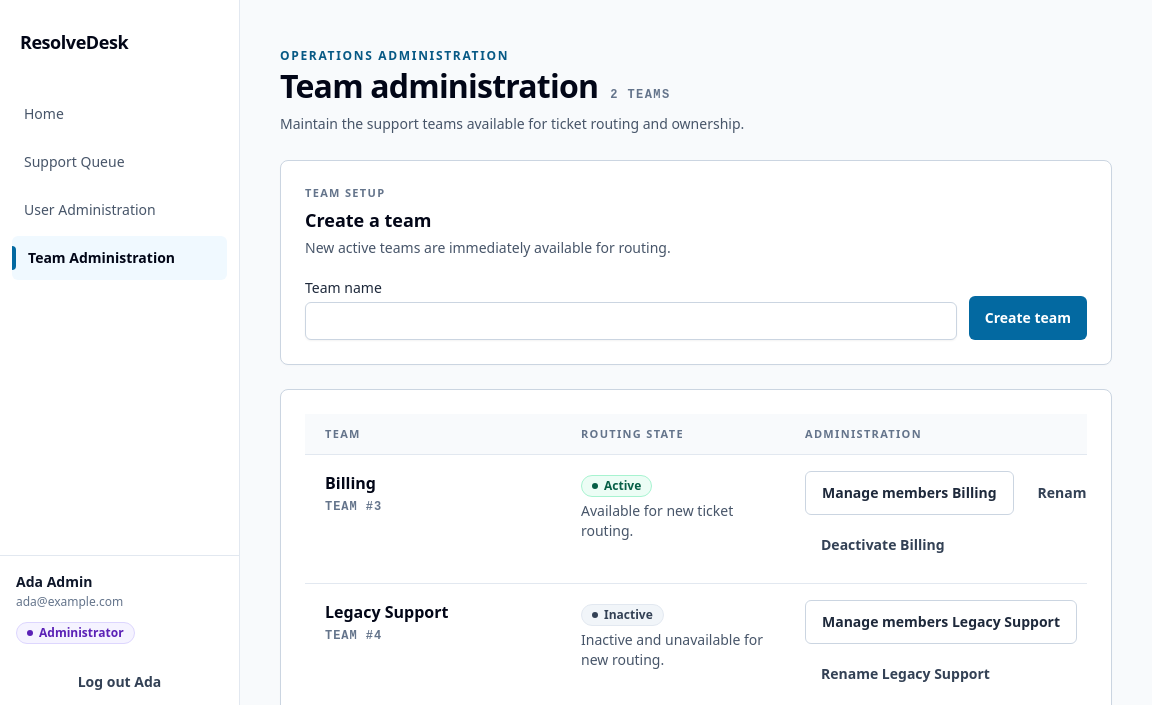
Test: team administration › confirms deactivation and refreshes the team list after changing status
The width and height of the screenshot is (1152, 705).
Click the button "Deactivate Billing" at [883, 545], box [805,523,961,567]
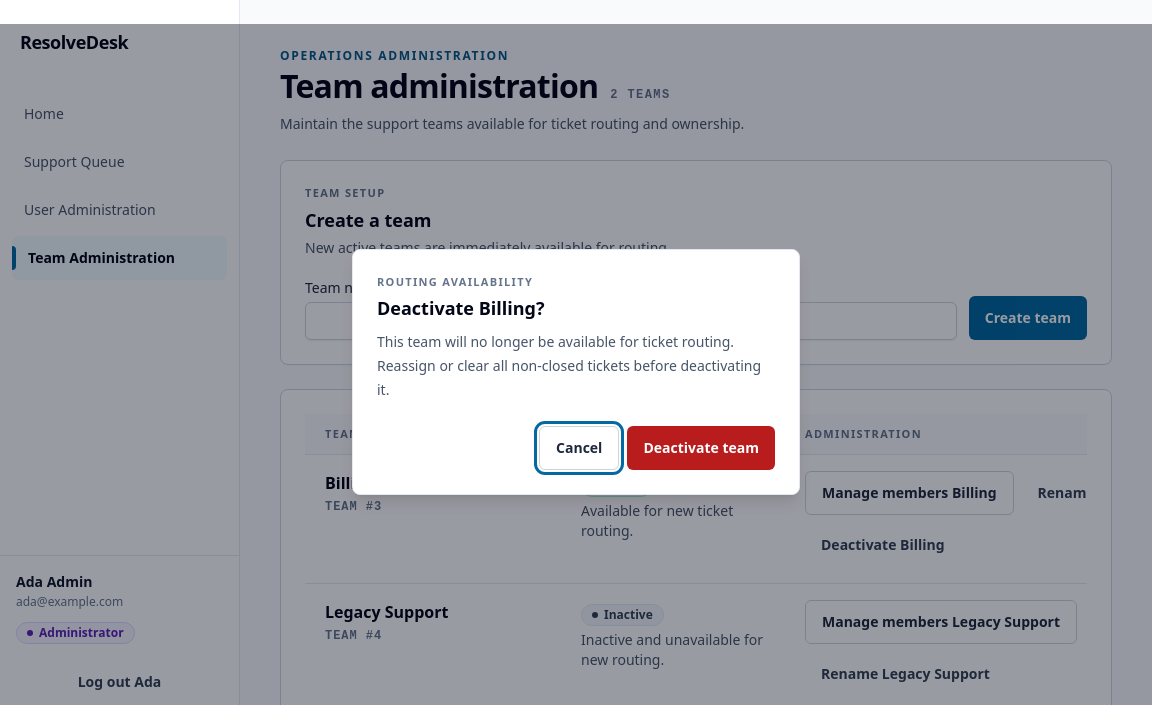
Check: the heading "Deactivate Billing?" is shown, box [377,296,544,320]
Click the button "Deactivate team" at [701, 448], box [627,426,775,470]
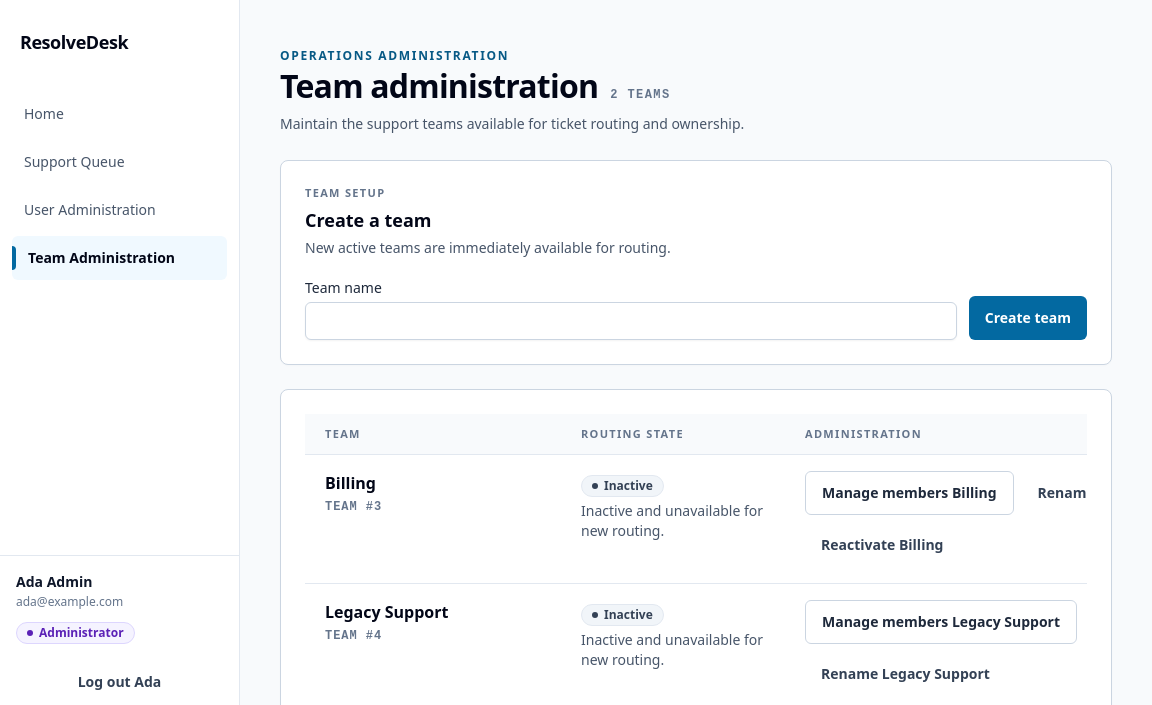
Check: the button "Reactivate Billing" is shown, box [805,523,960,567]
